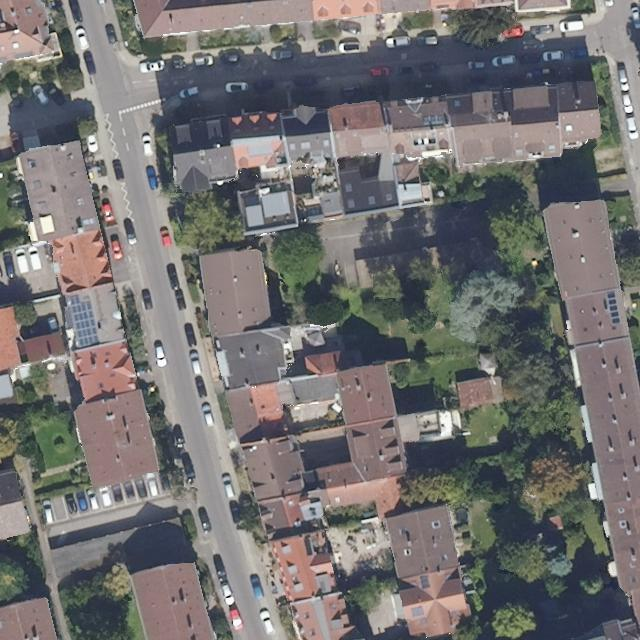PV: (68, 293, 100, 347), (607, 291, 621, 325), (419, 575, 431, 589), (410, 606, 425, 617)
